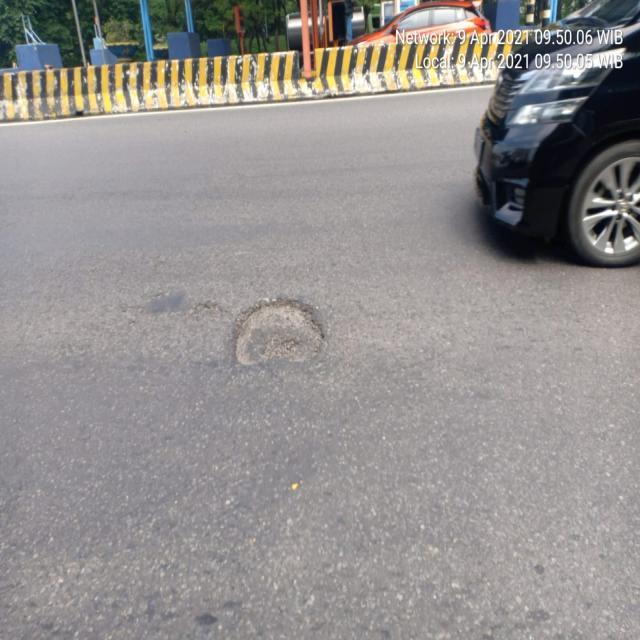Buraco: (228, 296, 332, 372)
